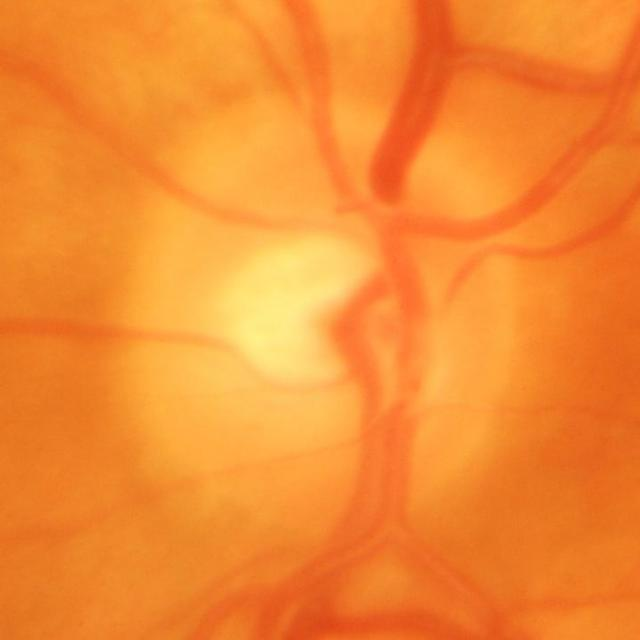OC: (203, 225, 402, 389)
OD: (112, 94, 516, 527)
